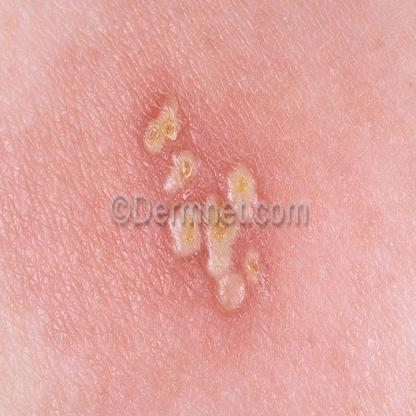Warts: (134, 100, 205, 196), (242, 247, 270, 292)
